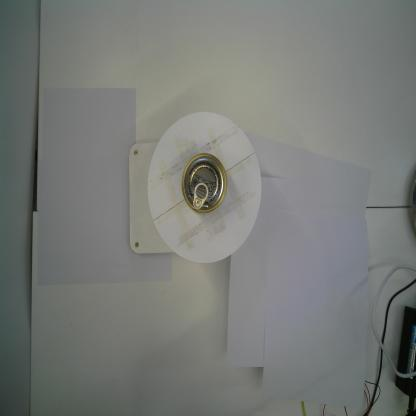Canned Food: (180, 150, 228, 216)
